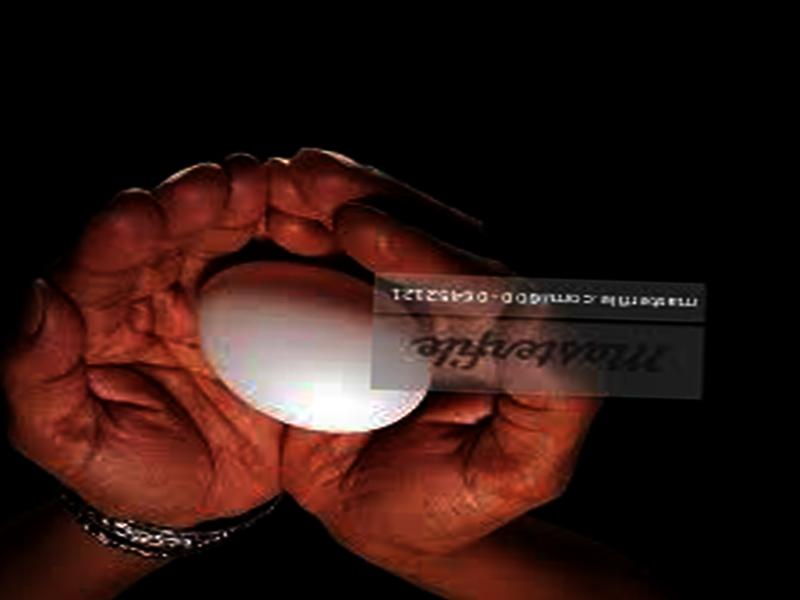Eggs: (190, 255, 434, 436)
